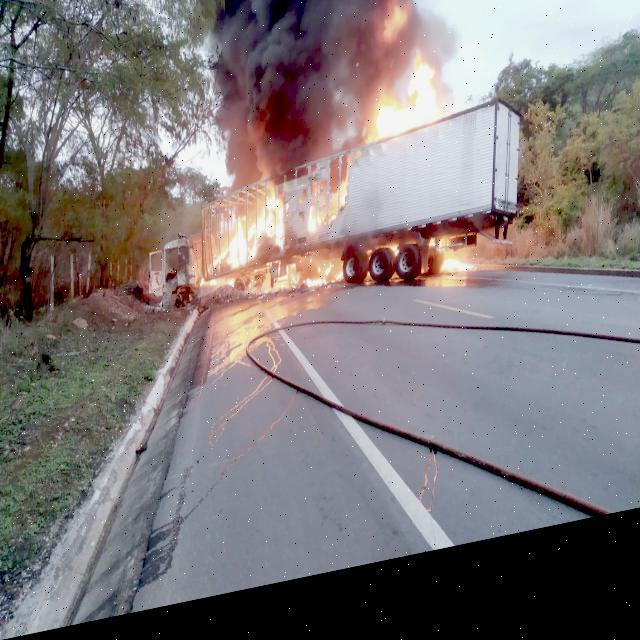Fire: (370, 62, 448, 161), (206, 199, 284, 282), (306, 195, 350, 247), (381, 18, 409, 58), (304, 276, 342, 304), (200, 280, 236, 304), (273, 274, 301, 302), (440, 273, 472, 292)
